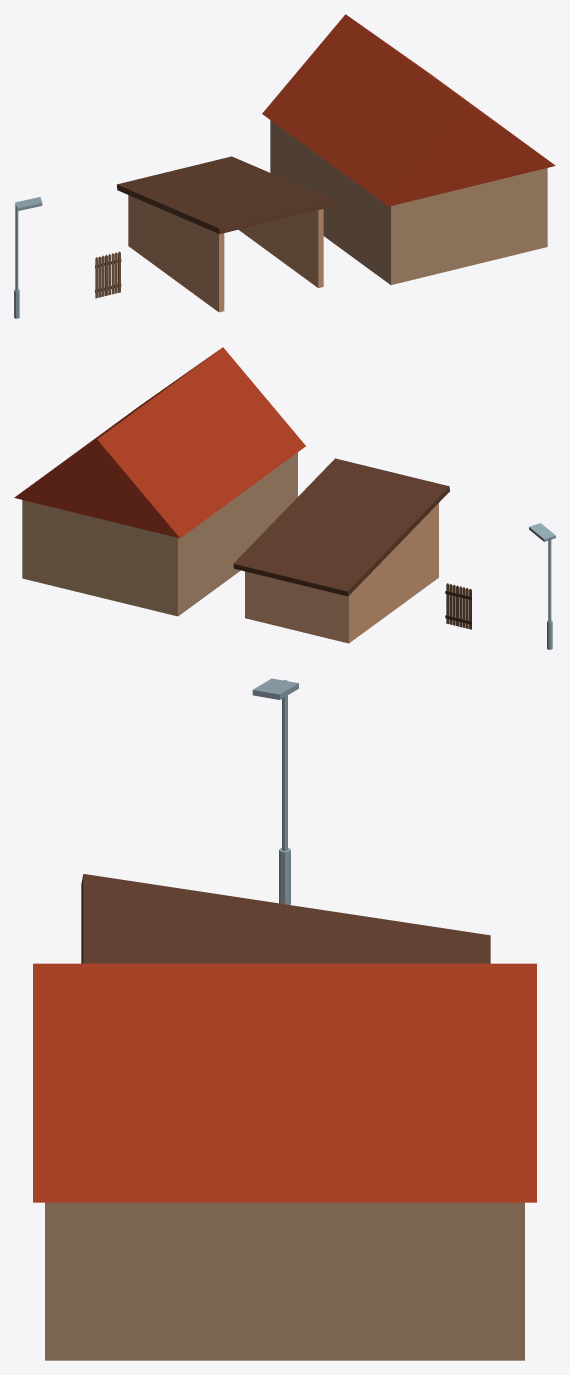
File: environment.glb
The picture shows the model from 3 angles, top to bottom: view 1: azimuth 30°, elevation 25°; view 2: azimuth 150°, elevation 25°; view 3: azimuth 270°, elevation 25°; orthographic projection. The views are drawn at different scales.
Visible parts, largest first — view 1: House, Barn, Fence, Streetlight; view 2: House, Barn, Fence, Streetlight; view 3: House, Barn, Streetlight.
Boxes of the visible parts, <box> form: House: <box>262,14,555,284</box>; Barn: <box>116,156,334,312</box>; Fence: <box>95,251,121,298</box>; Streetlight: <box>14,197,42,318</box>; House: <box>14,347,305,616</box>; Barn: <box>233,458,449,643</box>; Fence: <box>445,583,471,629</box>; Streetlight: <box>529,523,555,649</box>; House: <box>33,963,536,1360</box>; Barn: <box>81,874,490,963</box>; Streetlight: <box>252,678,298,904</box>.
Size of what is drawn, in the model's own units: 18.31 by 5.9 by 8.4.
Materials: 4 (4 with a texture image).
